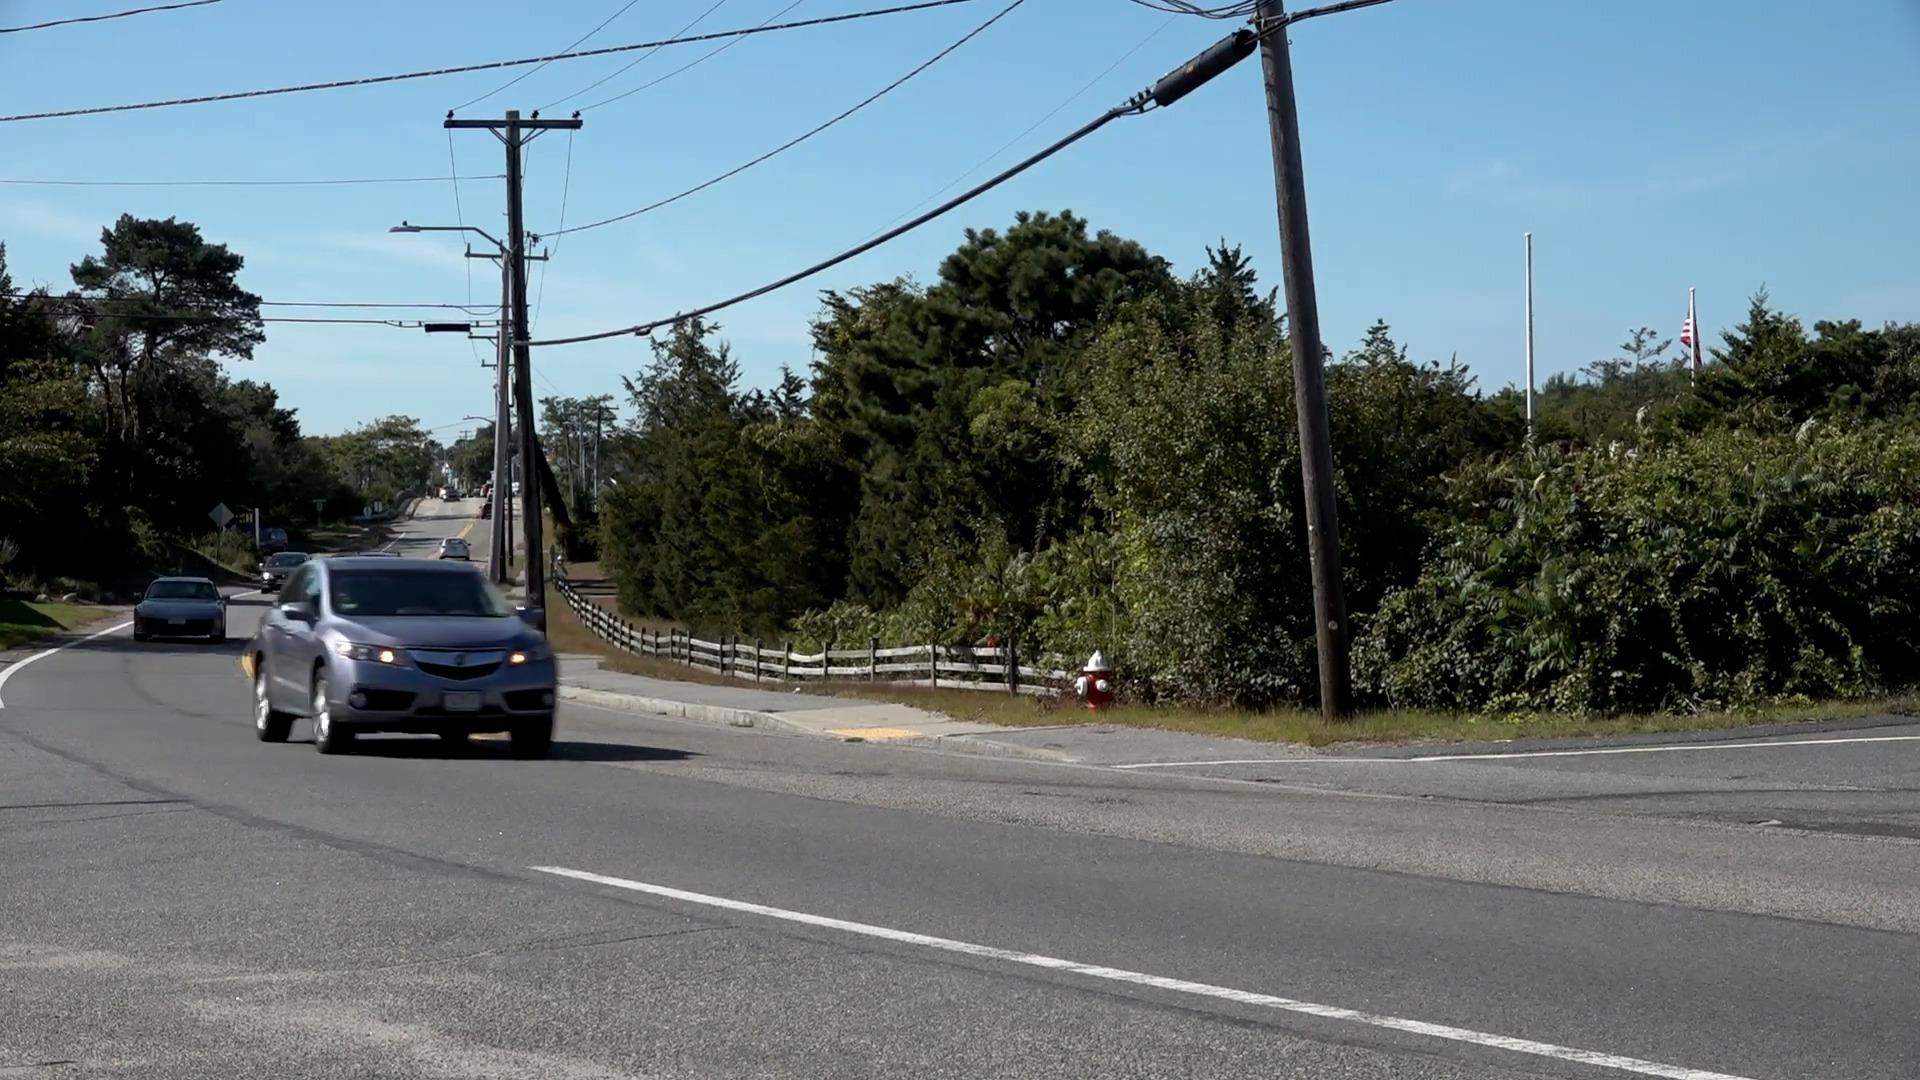sedans: (131, 571, 231, 649)
suv: (258, 549, 564, 766)
